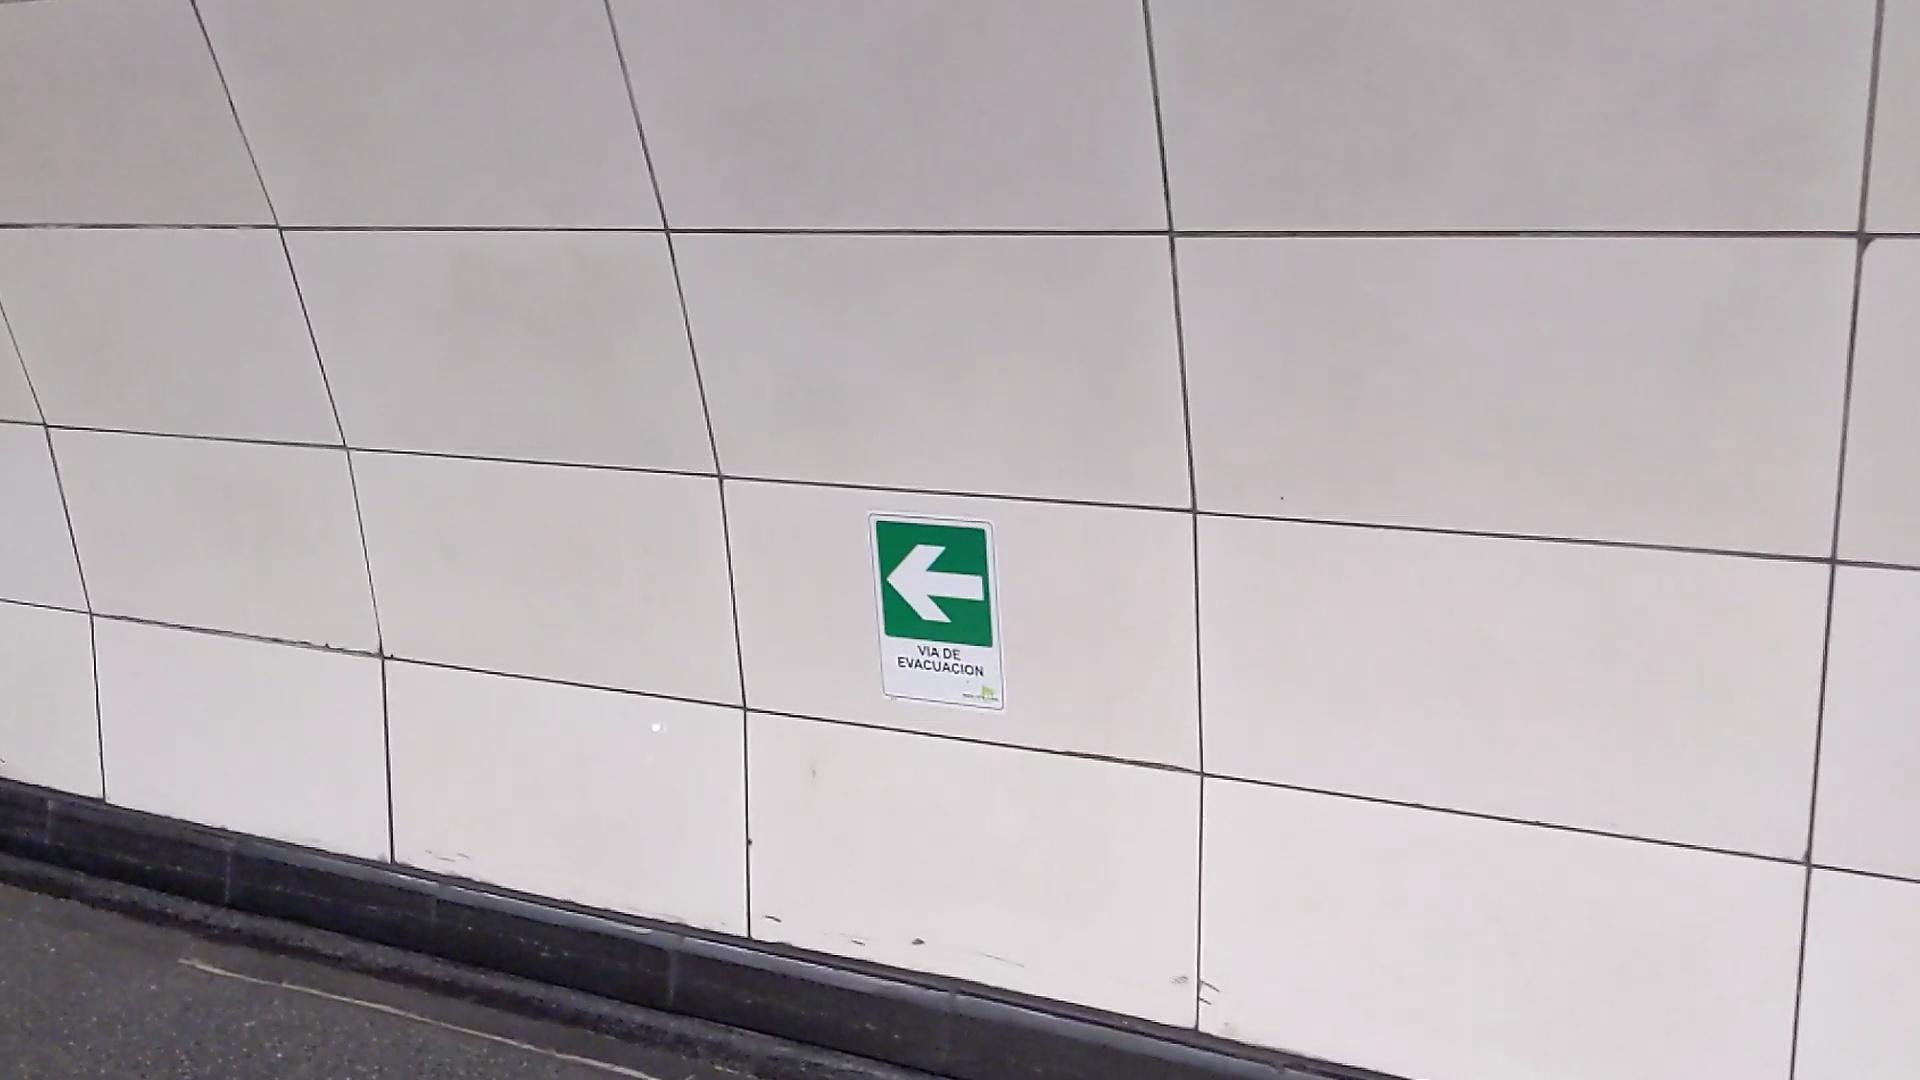emergency left arrow: (885, 543, 986, 624)
